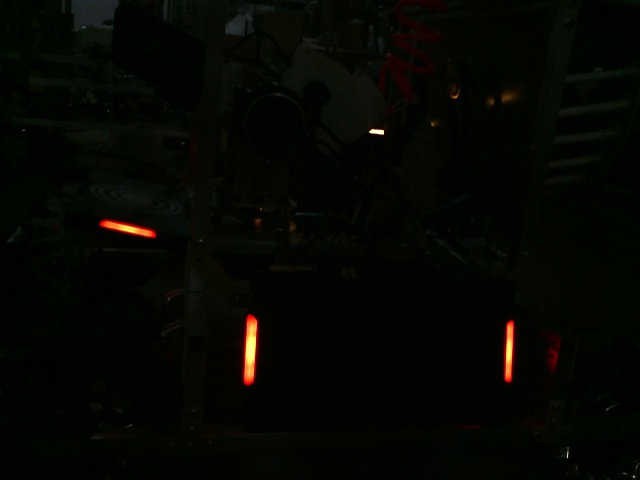lamp: (238, 310, 266, 387), (498, 320, 523, 385)
